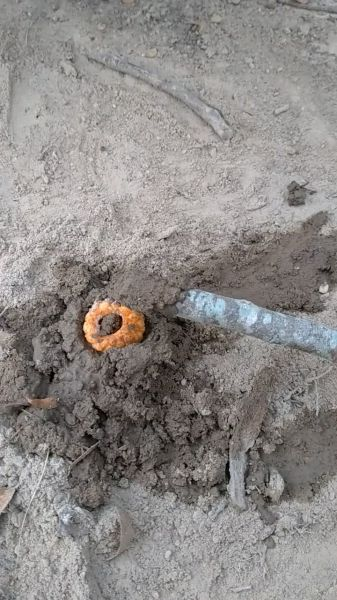eggs: (80, 297, 152, 358)
